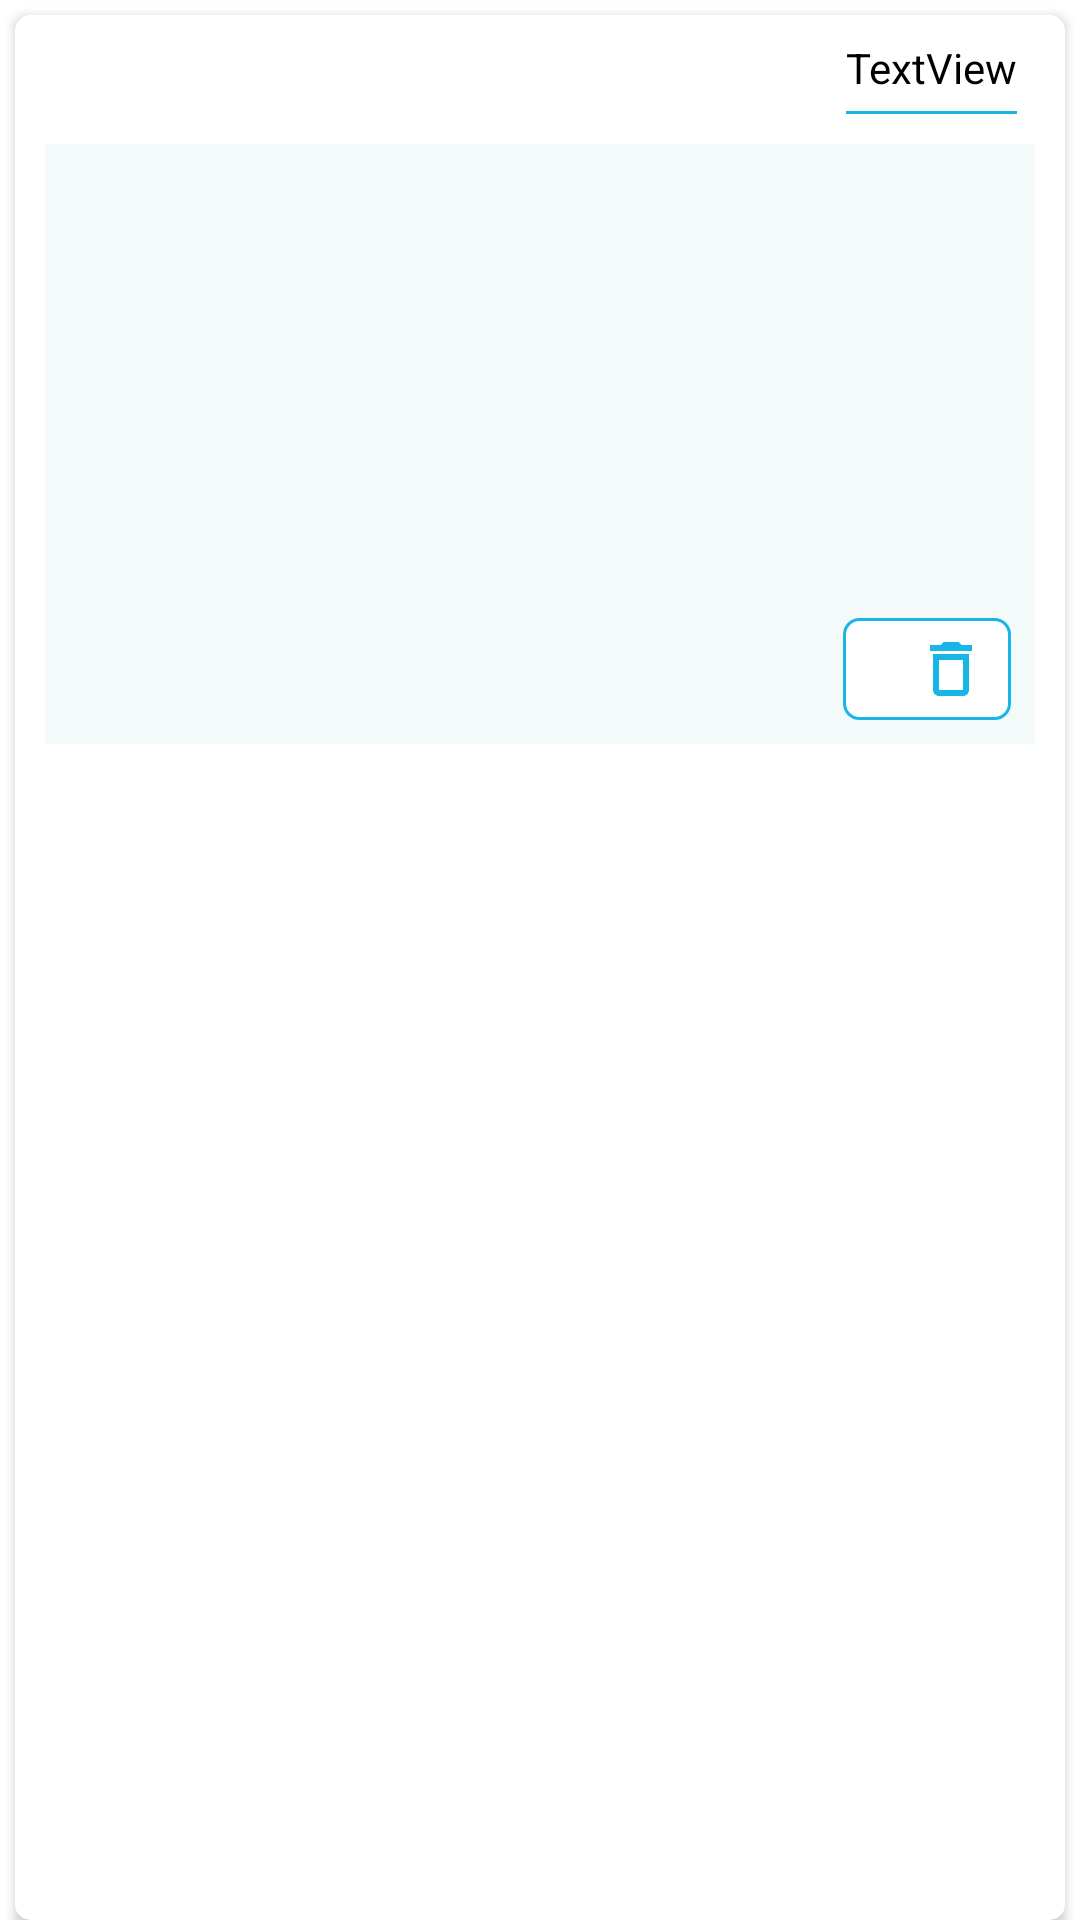

Icon bounding boxes for this 1080x1920 phone screenshot, format (x1, y1, x2, y2):
delete: (930, 642, 972, 696)
